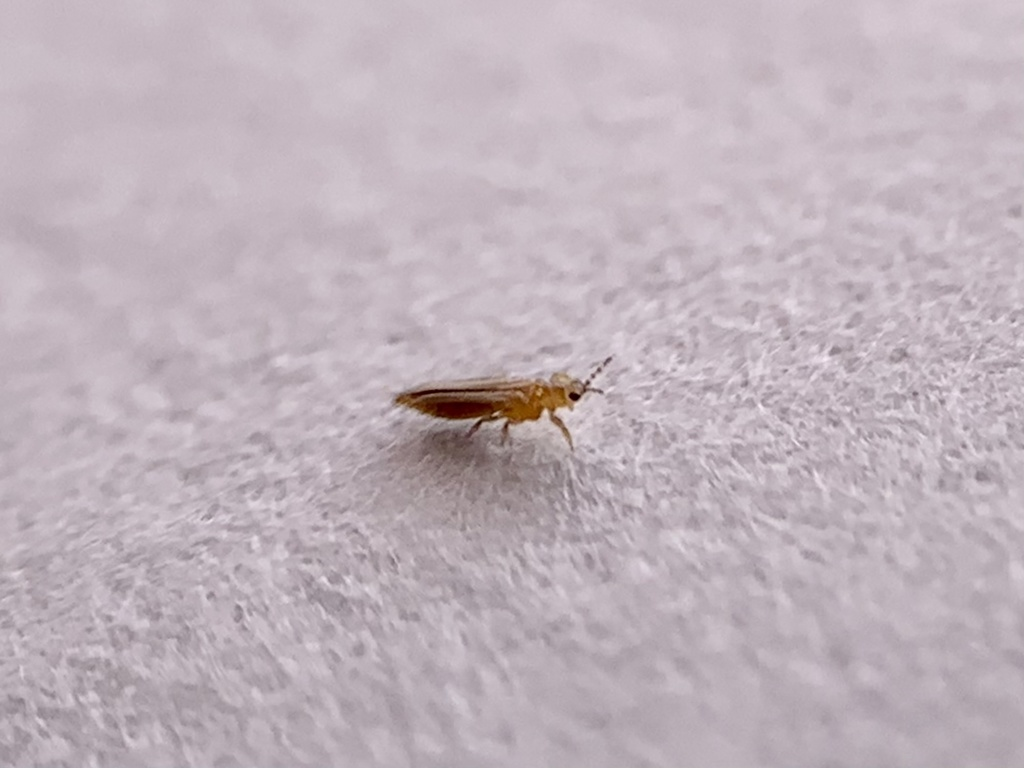tiny_pests: (336, 292, 677, 529)
